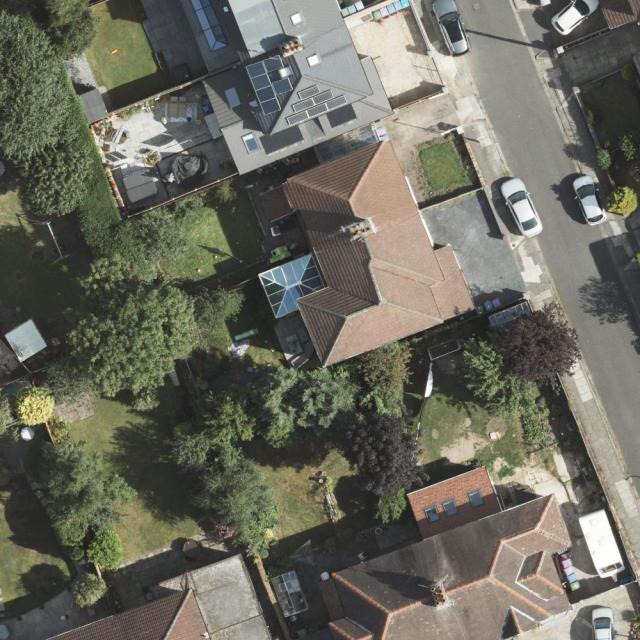roof: (254, 136, 475, 372), (329, 467, 573, 640), (178, 0, 393, 176), (41, 554, 274, 640), (595, 0, 640, 34)
skylight: (259, 251, 328, 320), (190, 0, 228, 50), (240, 132, 261, 154), (467, 488, 487, 509), (441, 499, 460, 520), (224, 87, 242, 109), (425, 505, 441, 524), (306, 52, 321, 68), (289, 11, 303, 25), (279, 65, 294, 78)
solar: (244, 54, 294, 114), (287, 85, 347, 127)
